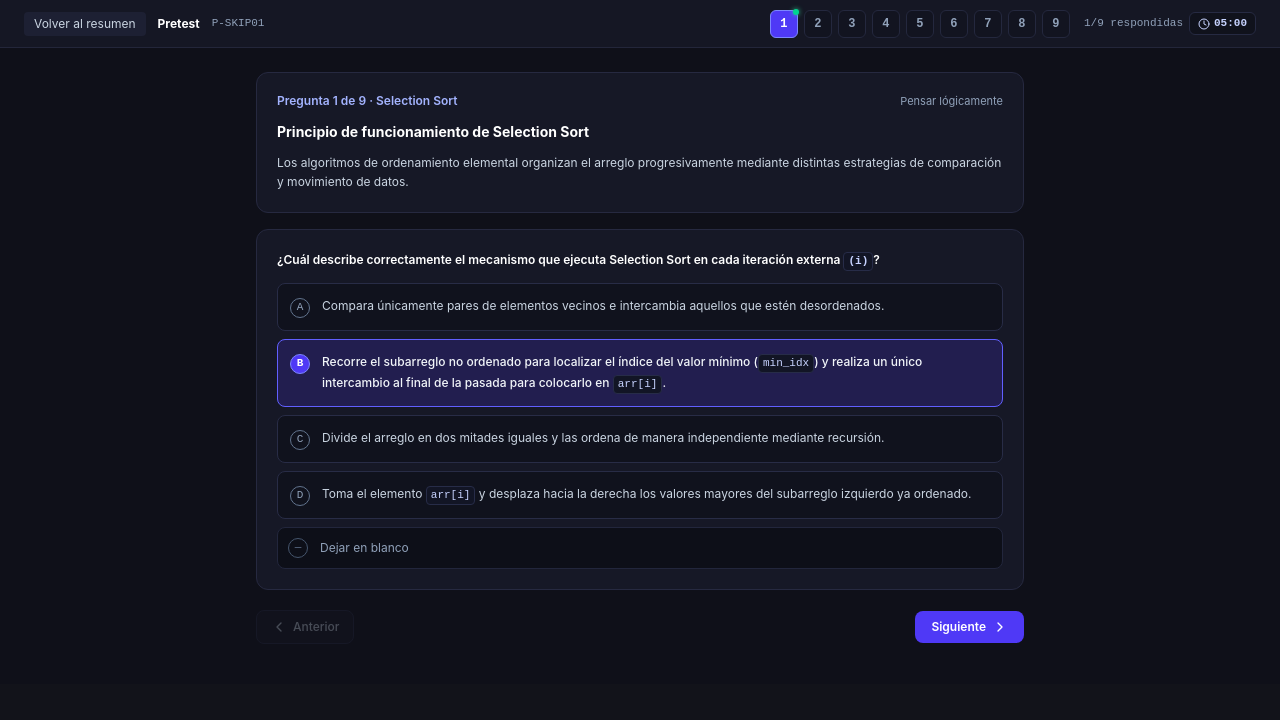
Test: Tareas accesibles sin cuenta, ocultamiento CSV y sincronización al conectarse › permite marcar "No la sé / Dejar en blanco (0 puntos)" o confirmar "Enviar de todos modos" sin obligar a adivinar
The image size is (1280, 720).
Later steps or results of the test are not shown.
# Ir a la Pregunta 2 y marcar "Dejar en blanco"
Click the button "2". click: coordinates (818, 24)
box: [804,10,832,38]
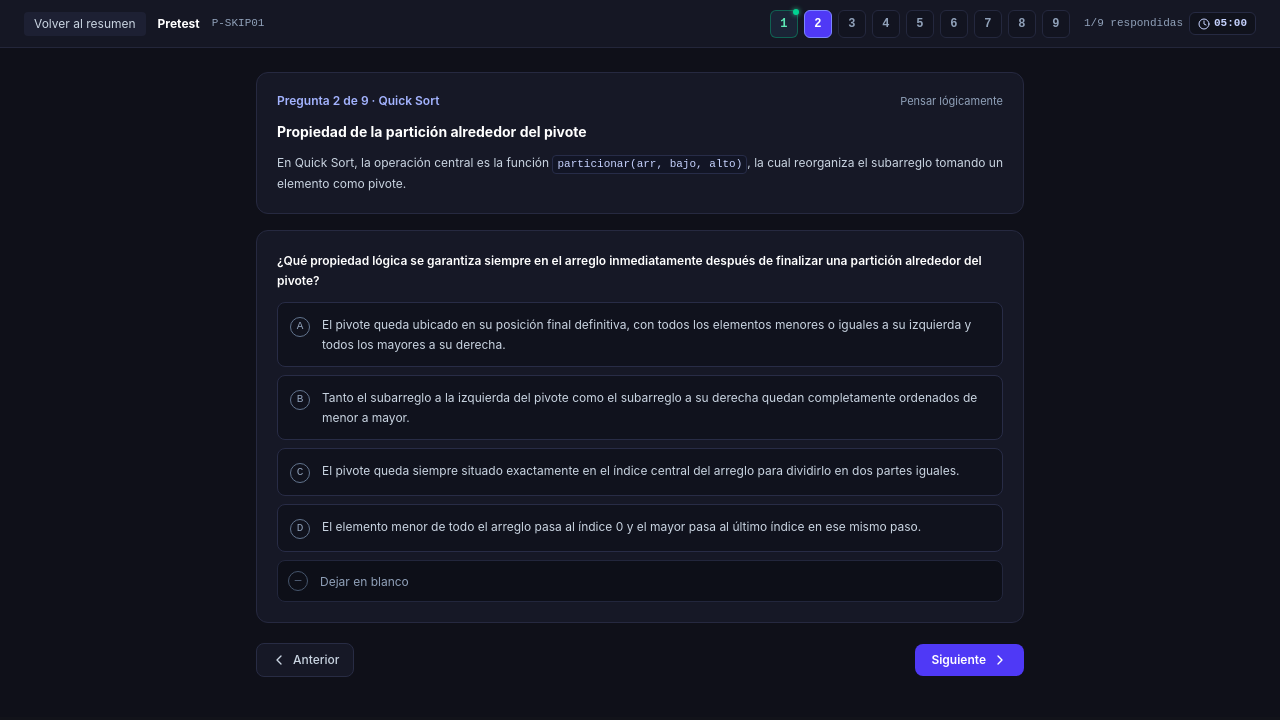
Click the button "— Dejar en blanco". click: coordinates (364, 581)
box: [277,560,1003,602]
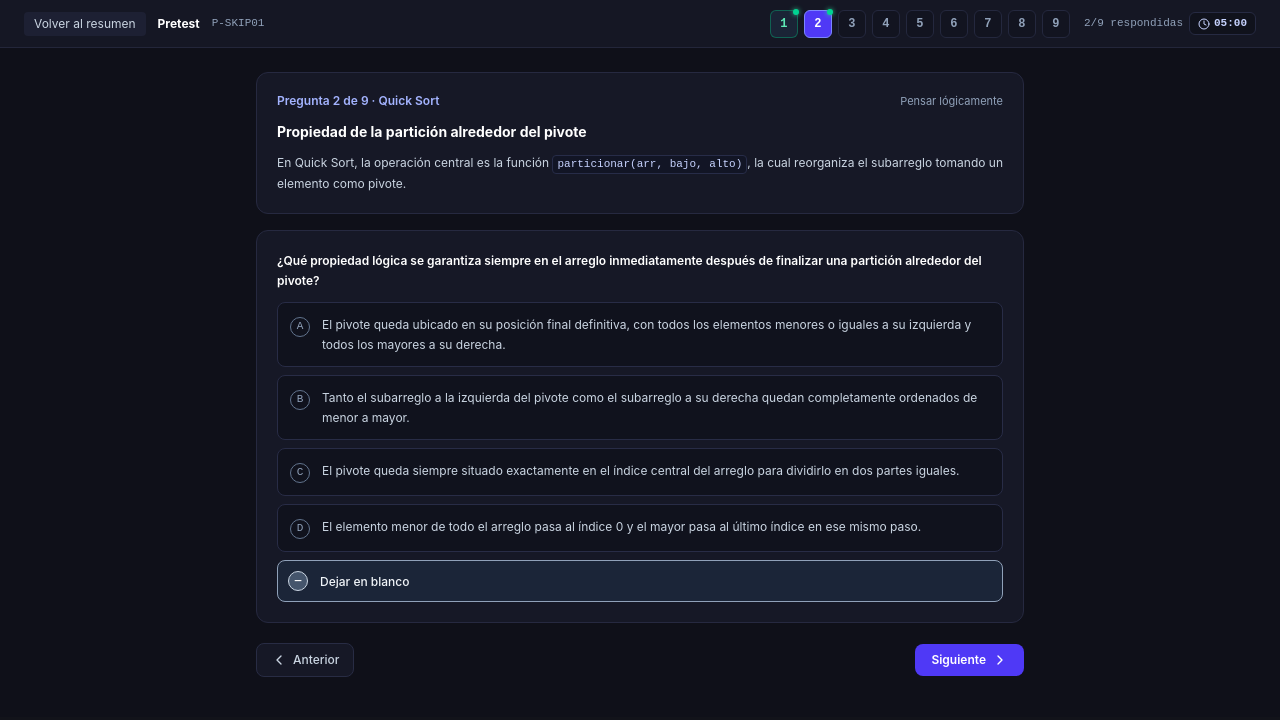
# Ir a la Pregunta 9 y pulsar "Finalizar y guardar Pretest" teniendo aún preguntas 3..9 vacías
Click the button "9". click: coordinates (1056, 24)
box: [1042,10,1070,38]
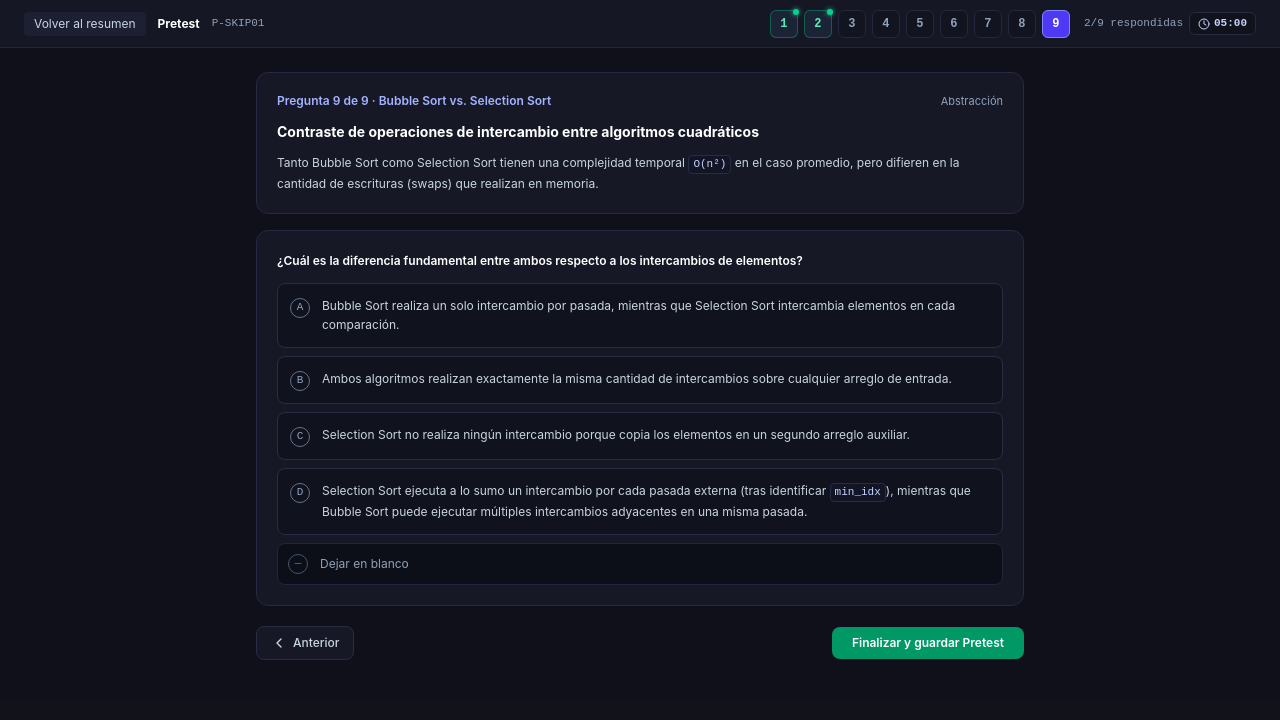
Click the button "Finalizar y guardar Pretest". click: coordinates (928, 642)
box: [832,626,1024,658]
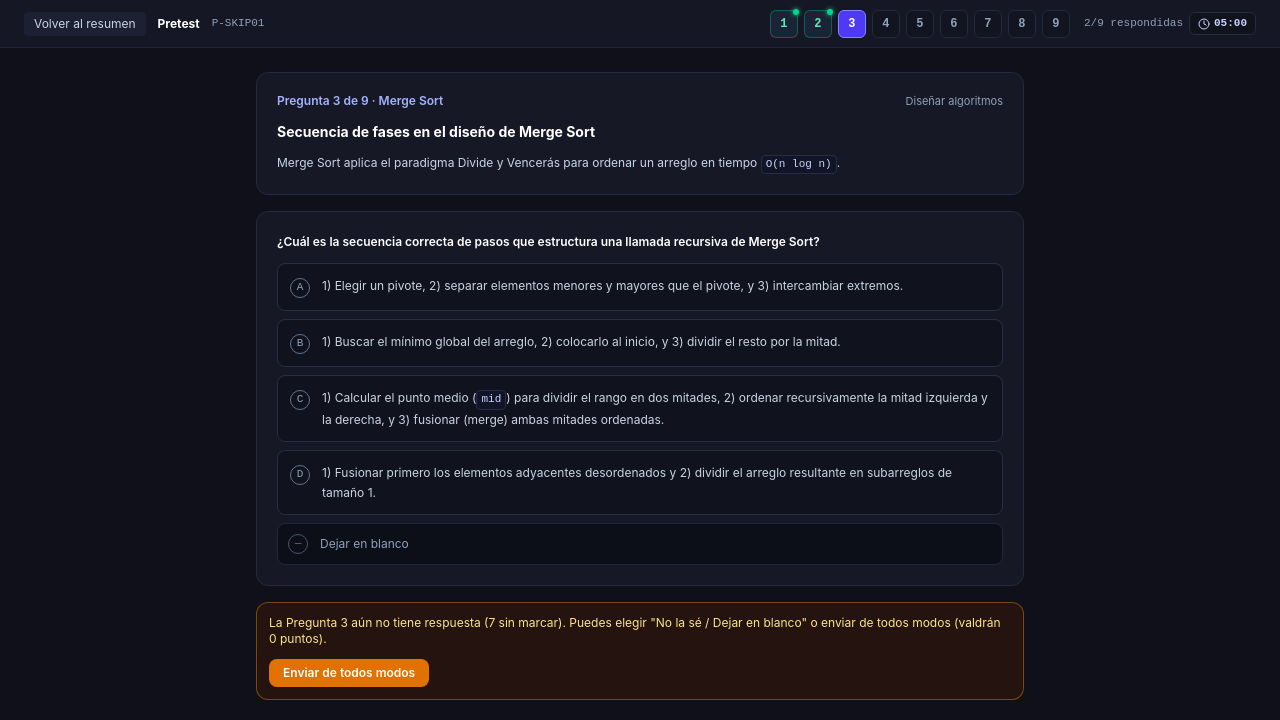
expect the button "Enviar de todos modos" is shown: met, box [269,659,429,687]
